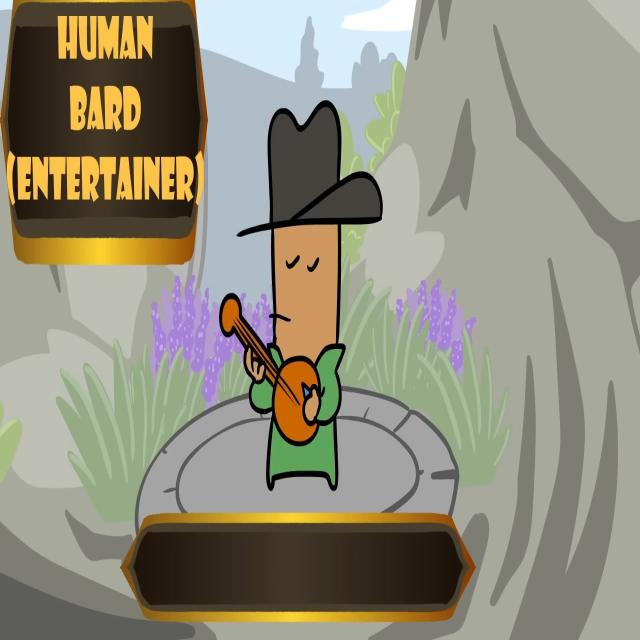Banjovi: (218, 97, 384, 493)
